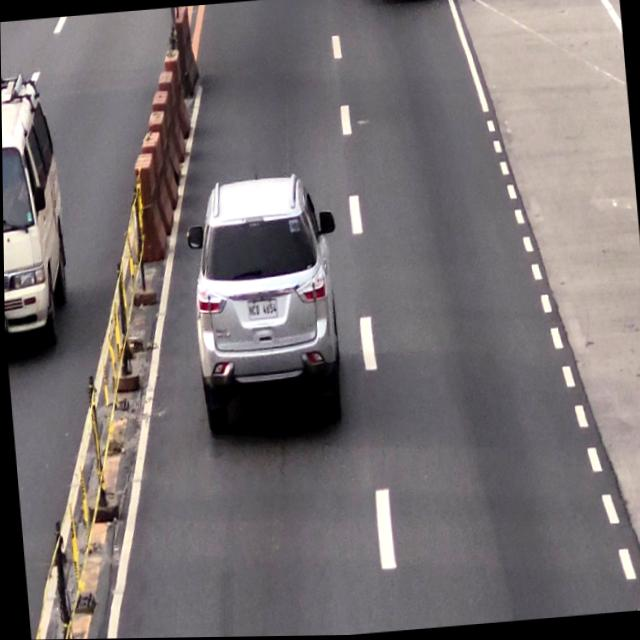Car: (185, 173, 341, 435)
License-Plate: (245, 297, 280, 321)
